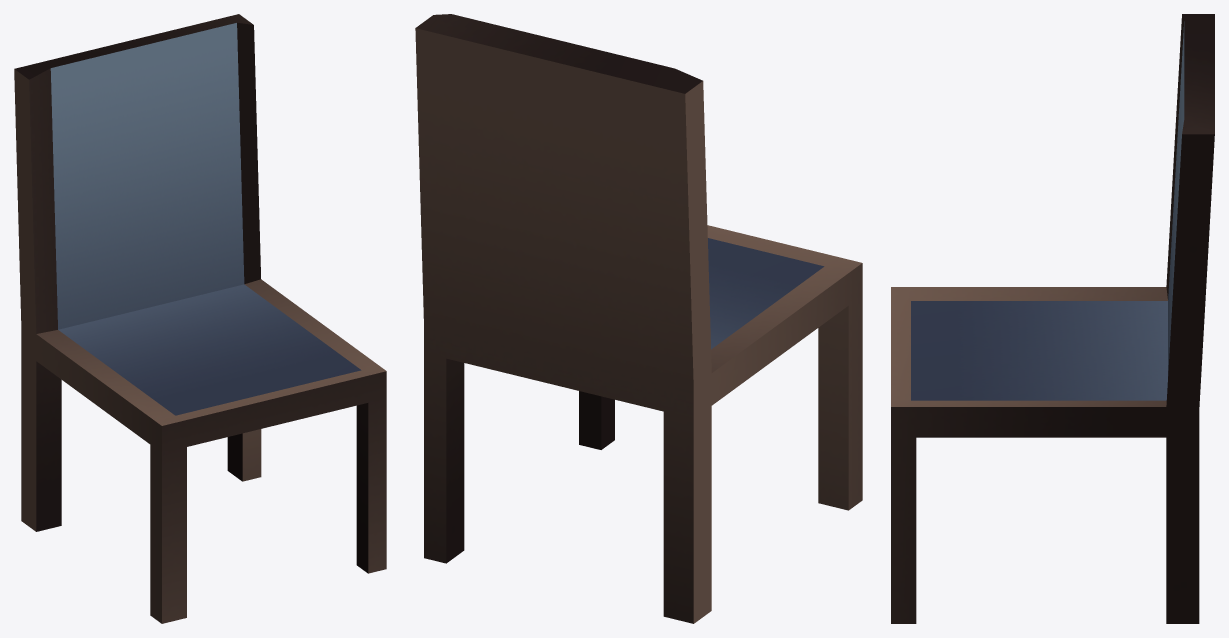
Rendered from blue chair.fbx.
3 renders of one model, left to right at view 1: azimuth 30°, elevation 25°; view 2: azimuth 150°, elevation 25°; view 3: azimuth 270°, elevation 25°, orthographic. The views are drawn at different scales.
Parts seen in each view (by area): view 1: Box001; view 2: Box001; view 3: Box001.
Part boxes in pixels (box(x1,y1,x2,y2)): Box001: box(14, 14, 386, 623); Box001: box(415, 14, 862, 623); Box001: box(891, 14, 1214, 623).
Bounding box in the file's own units: 48 × 92.28 × 54.64.
